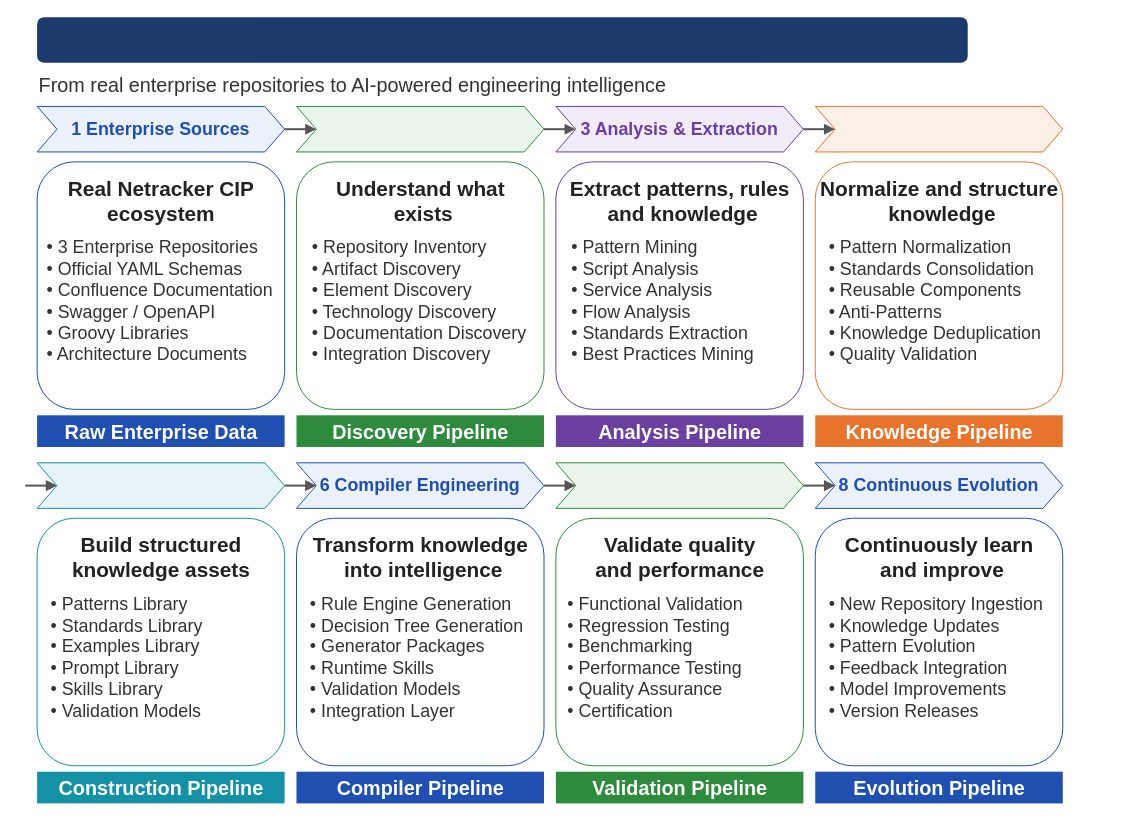
The diagram is 1142 pixels wide and 820 high, and some of its shapes have lost their labels. The shapes that lost their labels are listed below. From the top down, each one's centre as x and y in pixels, then its label:
At pixel 502 39: "2. How We Build the Knowledge Base".
At pixel 420 128: "2 Discovery & Inventory".
At pixel 938 128: "4 Knowledge Consolidation".
At pixel 160 485: "5 Knowledge Base Construction".
At pixel 679 485: "7 Validation & Benchmark".
